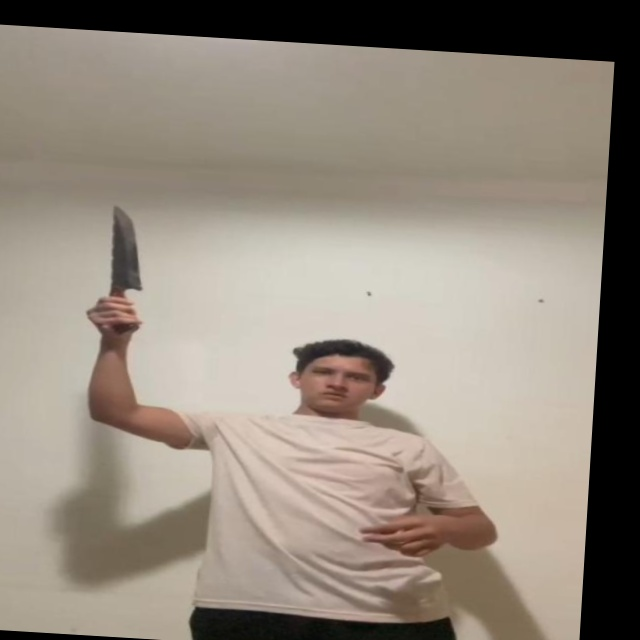Sharp-Object: (107, 207, 150, 291)
